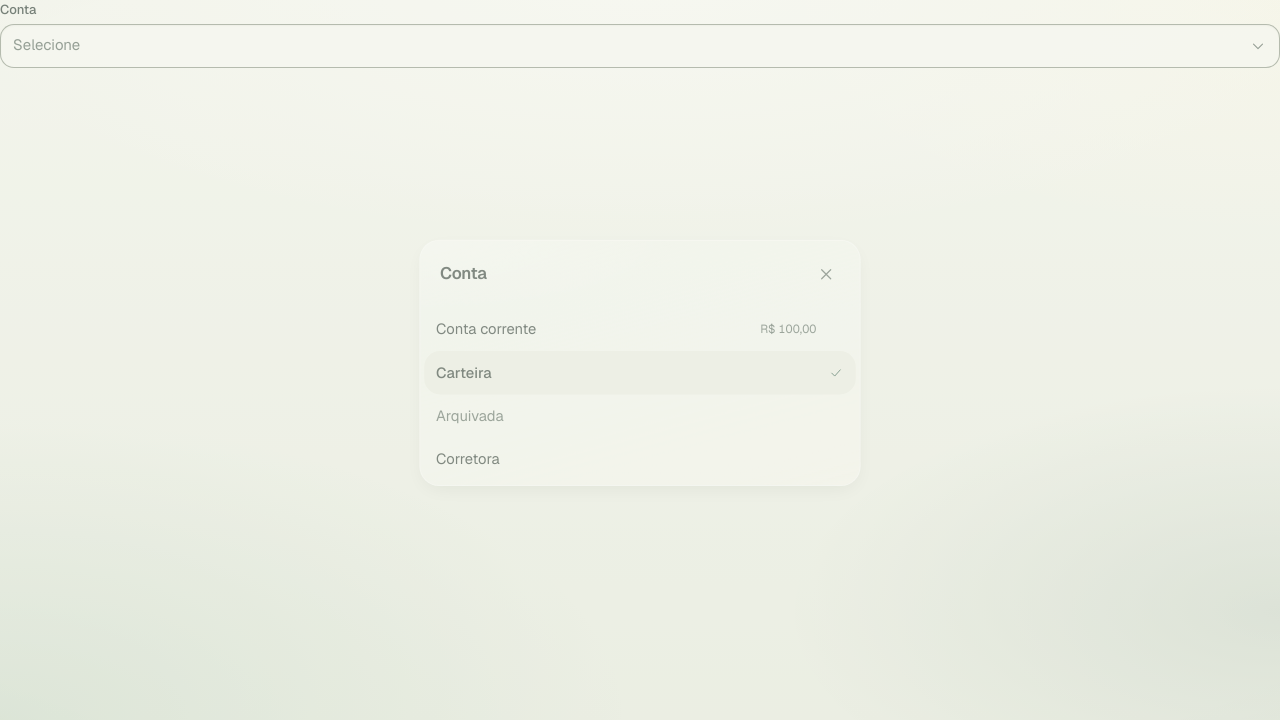
SelectComponent › Dado a lista aberta, então o toque fora fecha sem alterar
Click the dropdown named "Conta". click: (640, 46)
box: left=0, top=24, right=1279, bottom=68
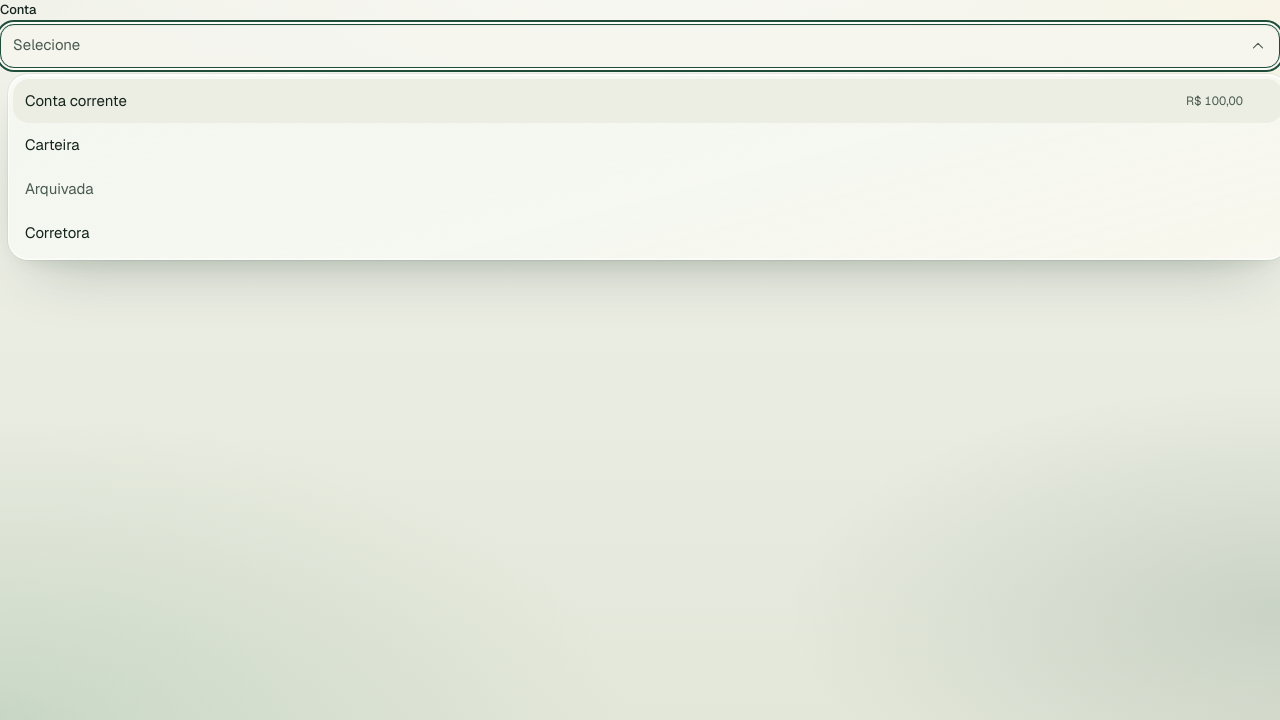
Click the element showing "Conta Selecione". click: (640, 360)
box: left=0, top=0, right=1279, bottom=719
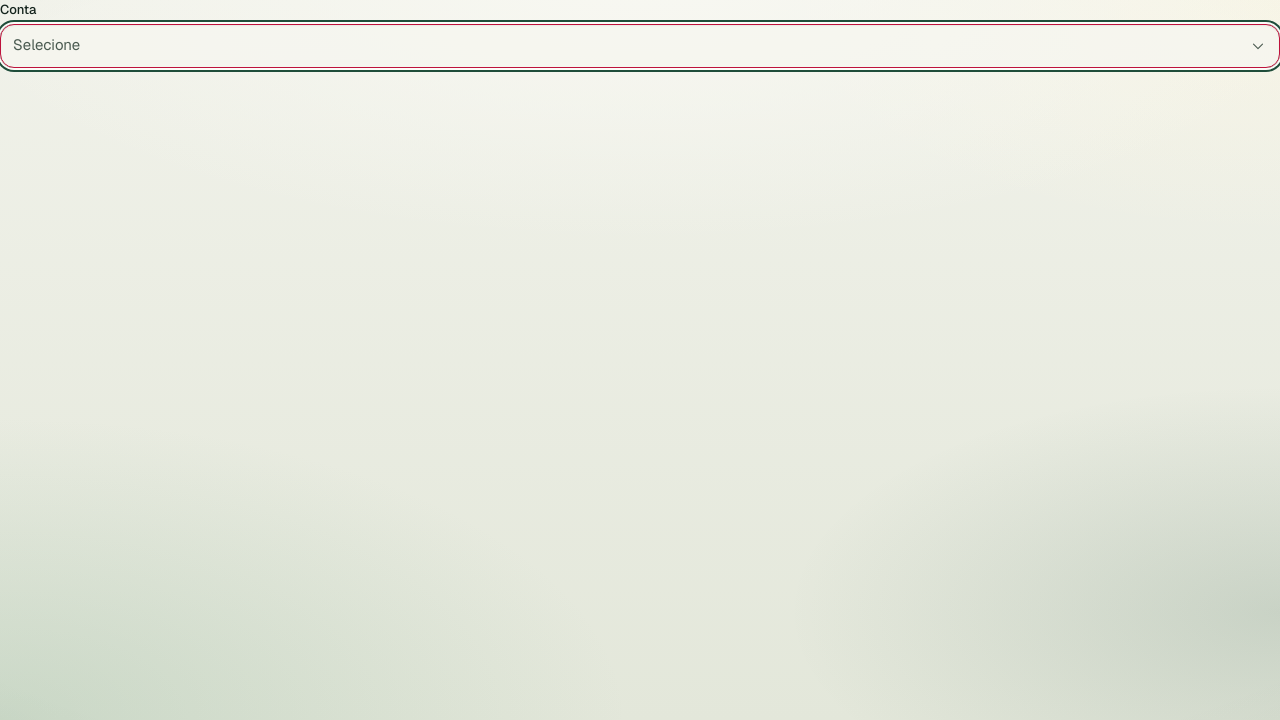
expect the dropdown named "Conta" is collapsed: met, box left=0, top=24, right=1279, bottom=68
